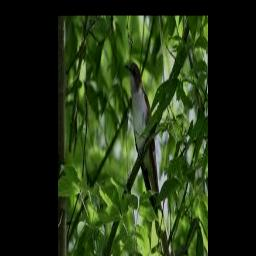Cuckoo: (125, 62, 173, 256)
